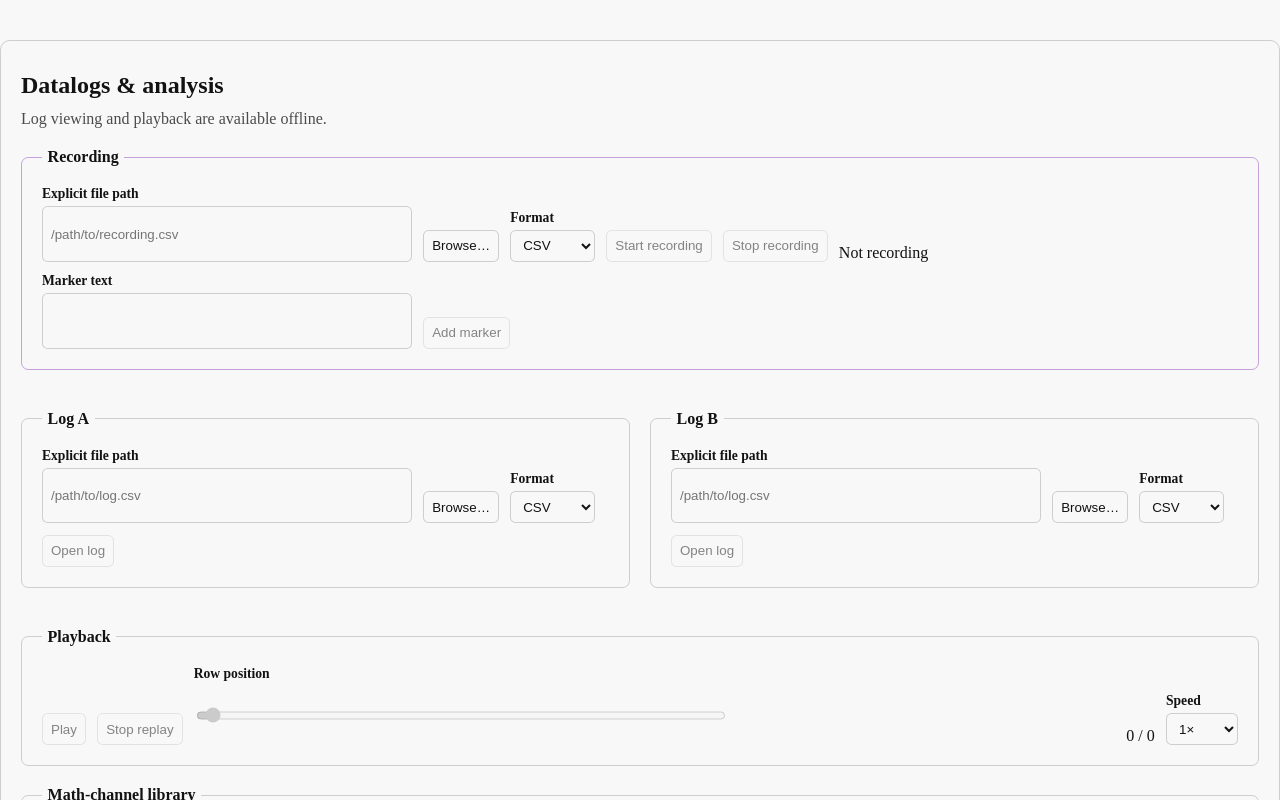
Scenario: DatalogPanel › playback escape hatch › shows the replay indicator and an enabled Stop button once scrubbing starts, and Stop returns to live
Type "/tmp/a.csv" into the 2nd field with placeholder "/path/to/log.csv".
click(227, 496); type("/tmp/a.csv")  # box [42,468,412,523]
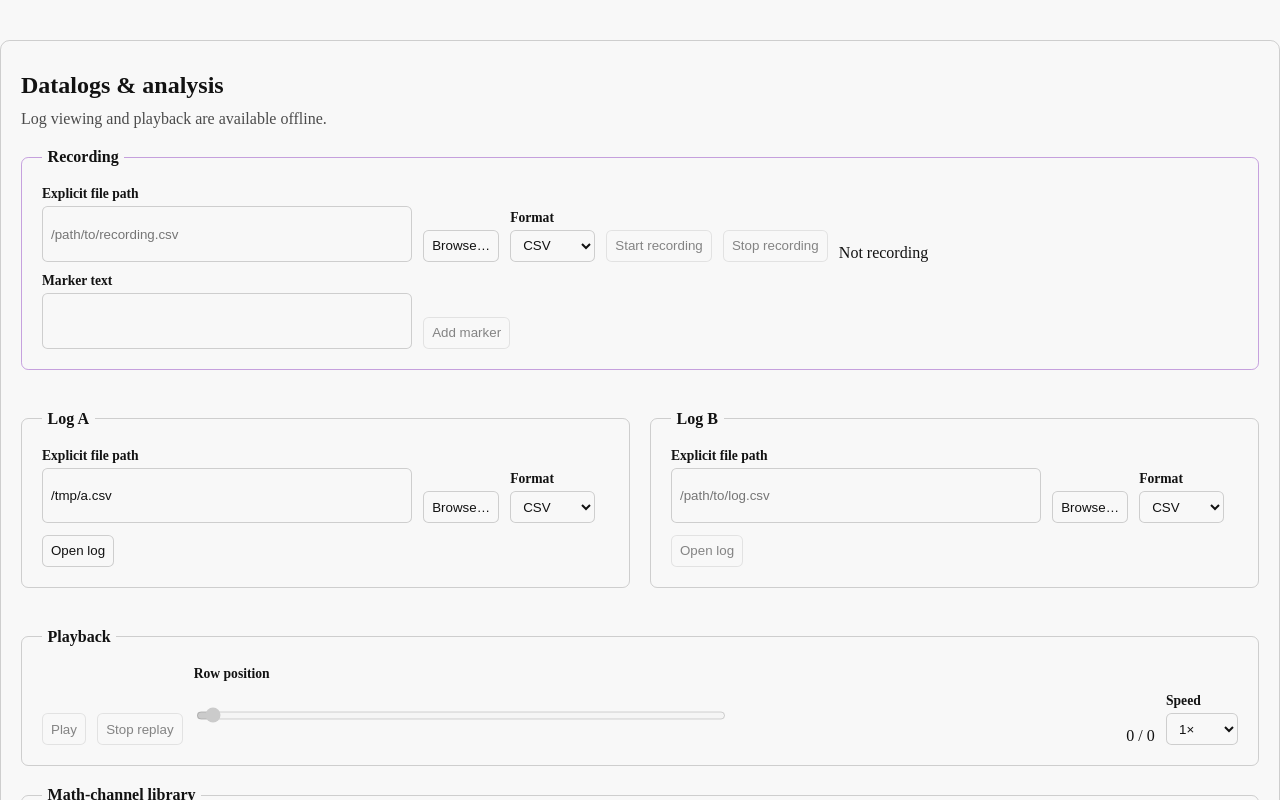
Click the 1st button "Open log".
click(78, 550)  # box [42,534,114,566]
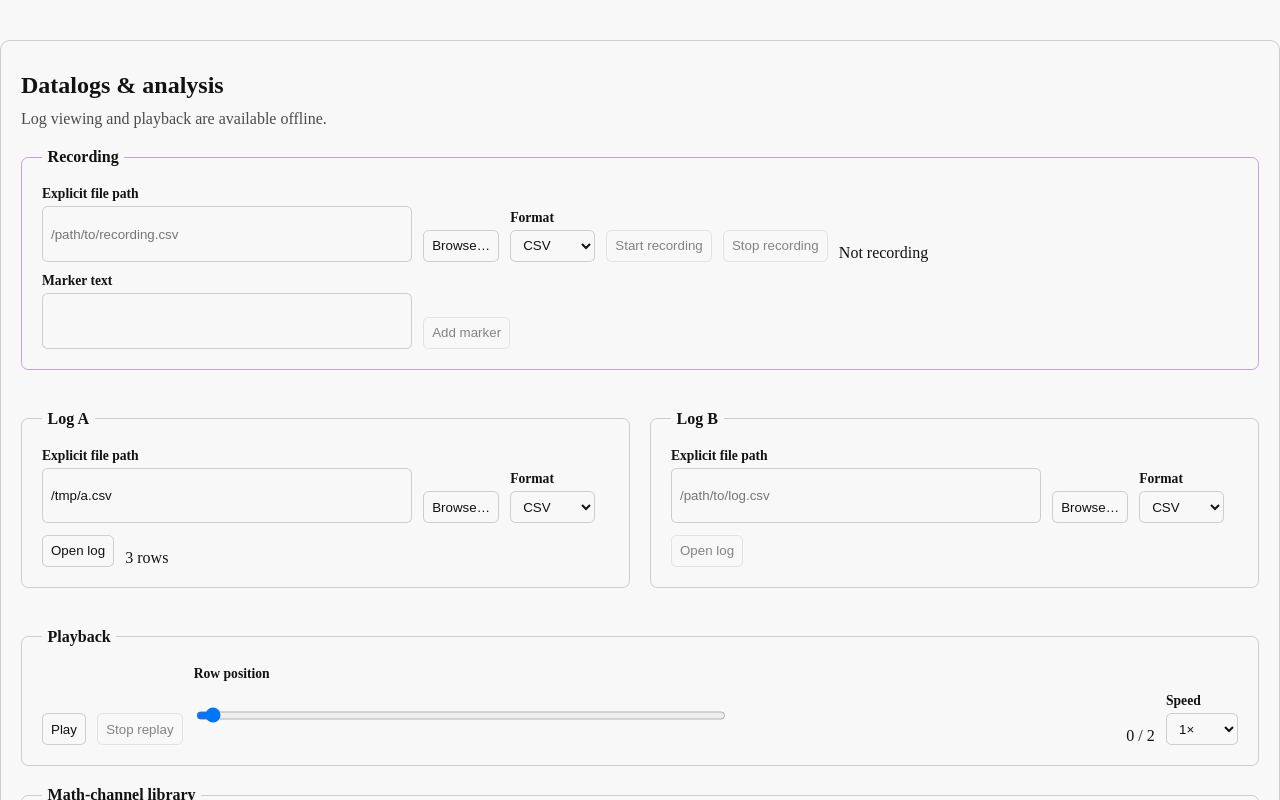
Set the slider labelled "Row position" to "1" at (461, 715), box [196,688,726,743]
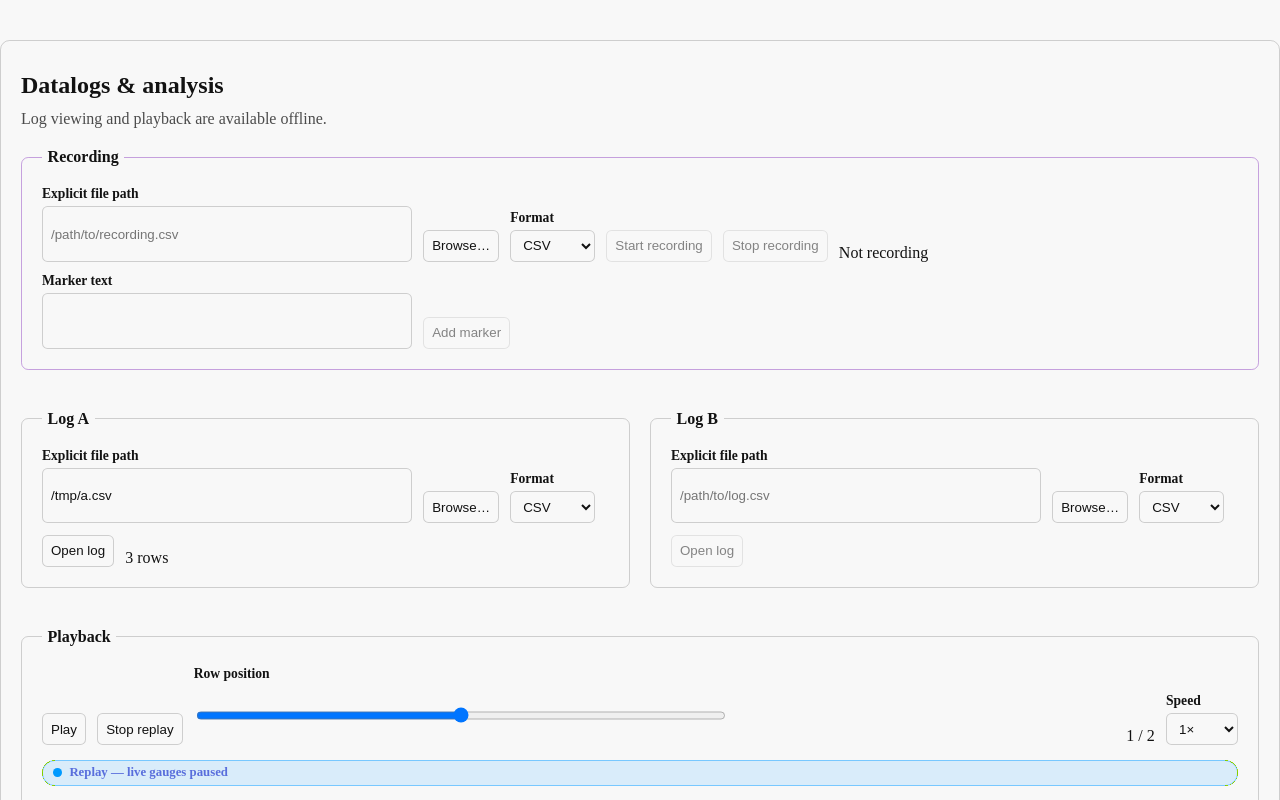
Check: the text "Replay — live gauges paused" is shown, box [42,760,1238,786]
Check: the button "Stop replay" is enabled
Click the button "Stop replay".
click(140, 729)  # box [97,713,182,745]
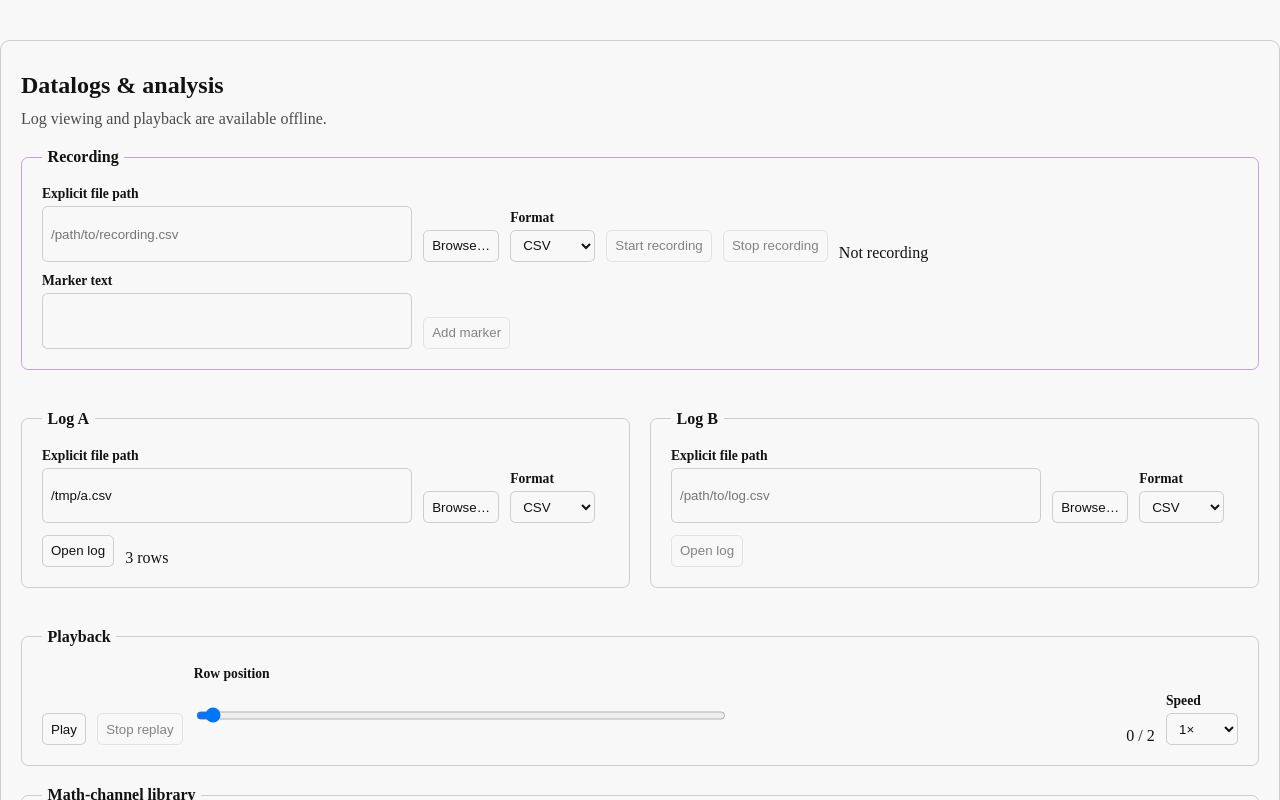
Check: the text "Replay — live gauges paused" is gone
Check: the button "Stop replay" is disabled, box [97,713,182,745]
